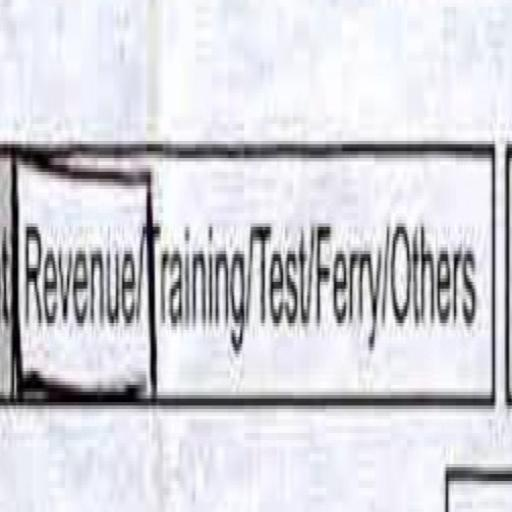check: (15, 90, 145, 452)
